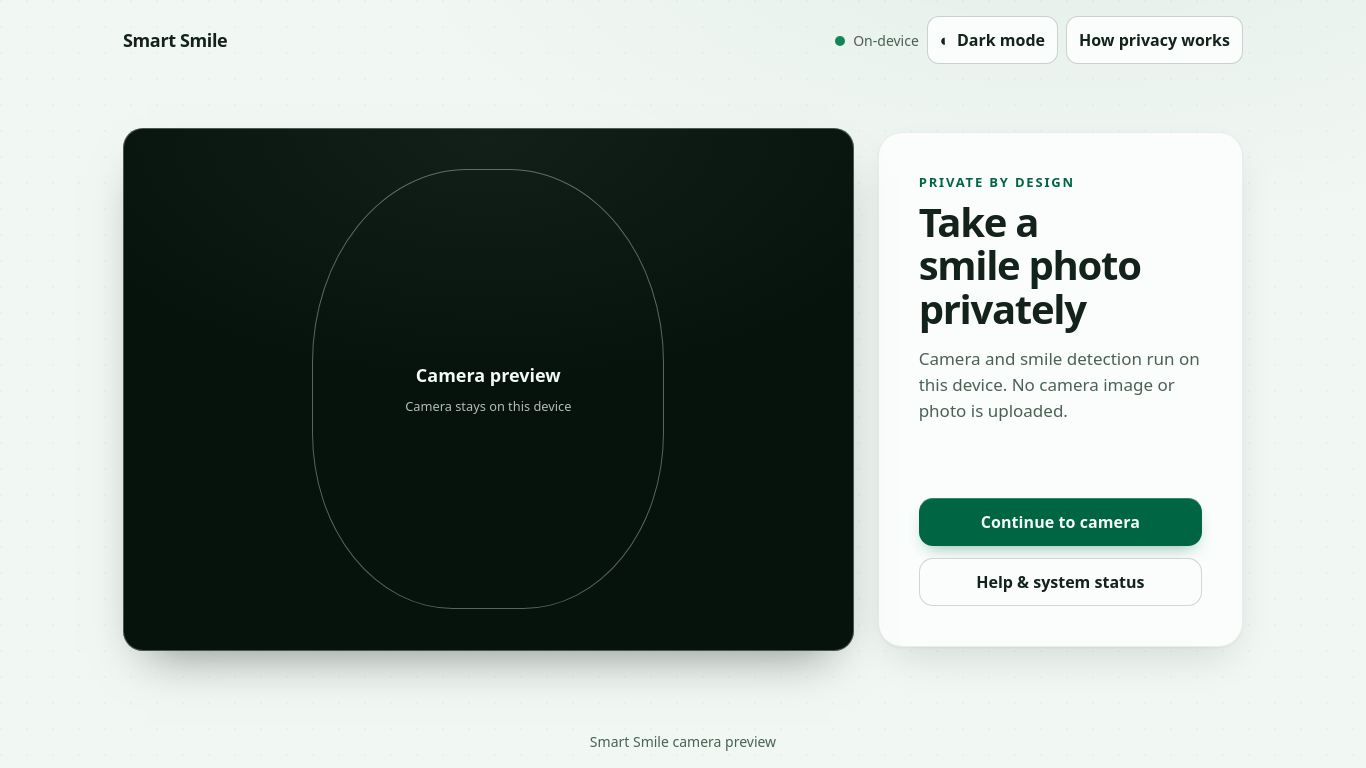
Test: Smart Smile camera session › keeps the privacy introduction visible and makes no request before the explicit action
Expected: the heading reads "Take a smile photo privately", [919, 194, 1141, 336]
Expected: the button "Continue to camera" is enabled, [919, 498, 1202, 546]
Step 1. Click the button "How privacy works" → (1154, 40), box [1066, 16, 1243, 64]
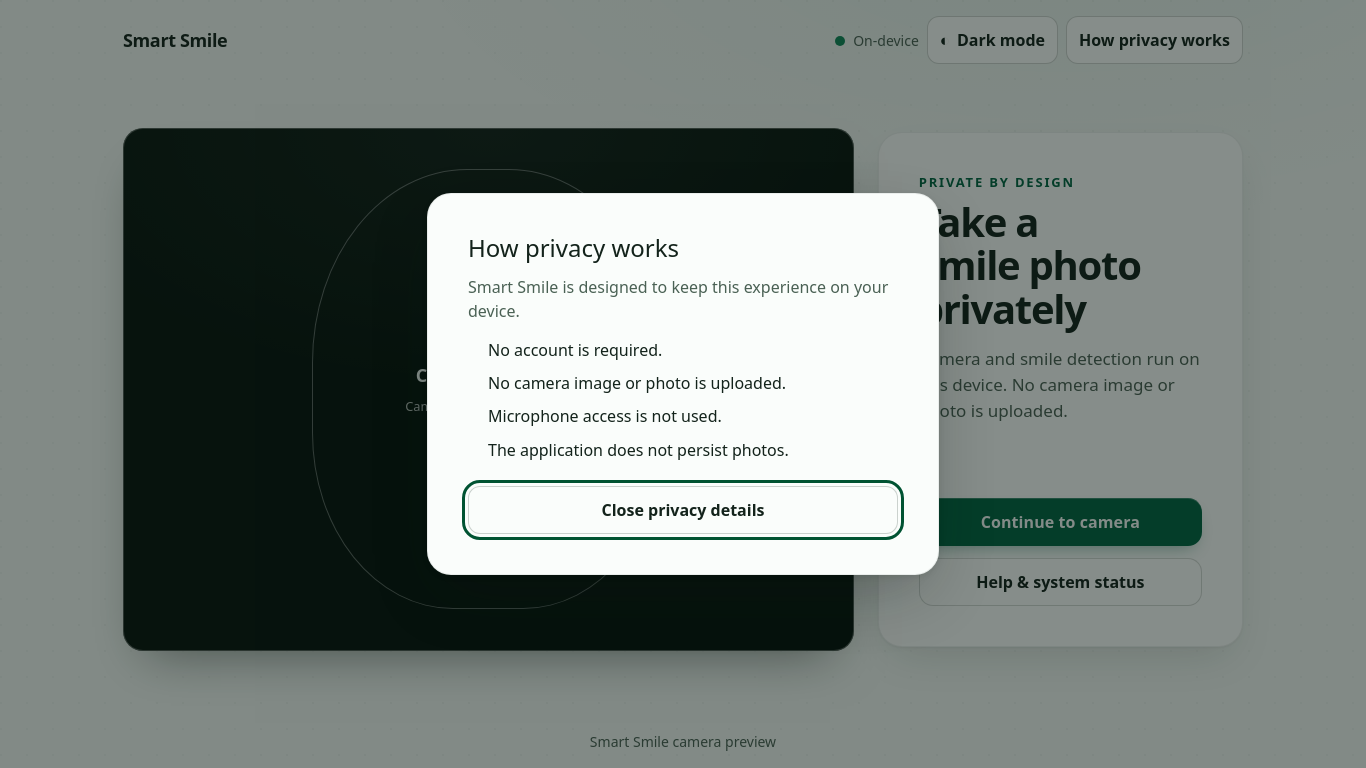
Now the dialog "How privacy works" is shown, box [427, 193, 939, 575]
